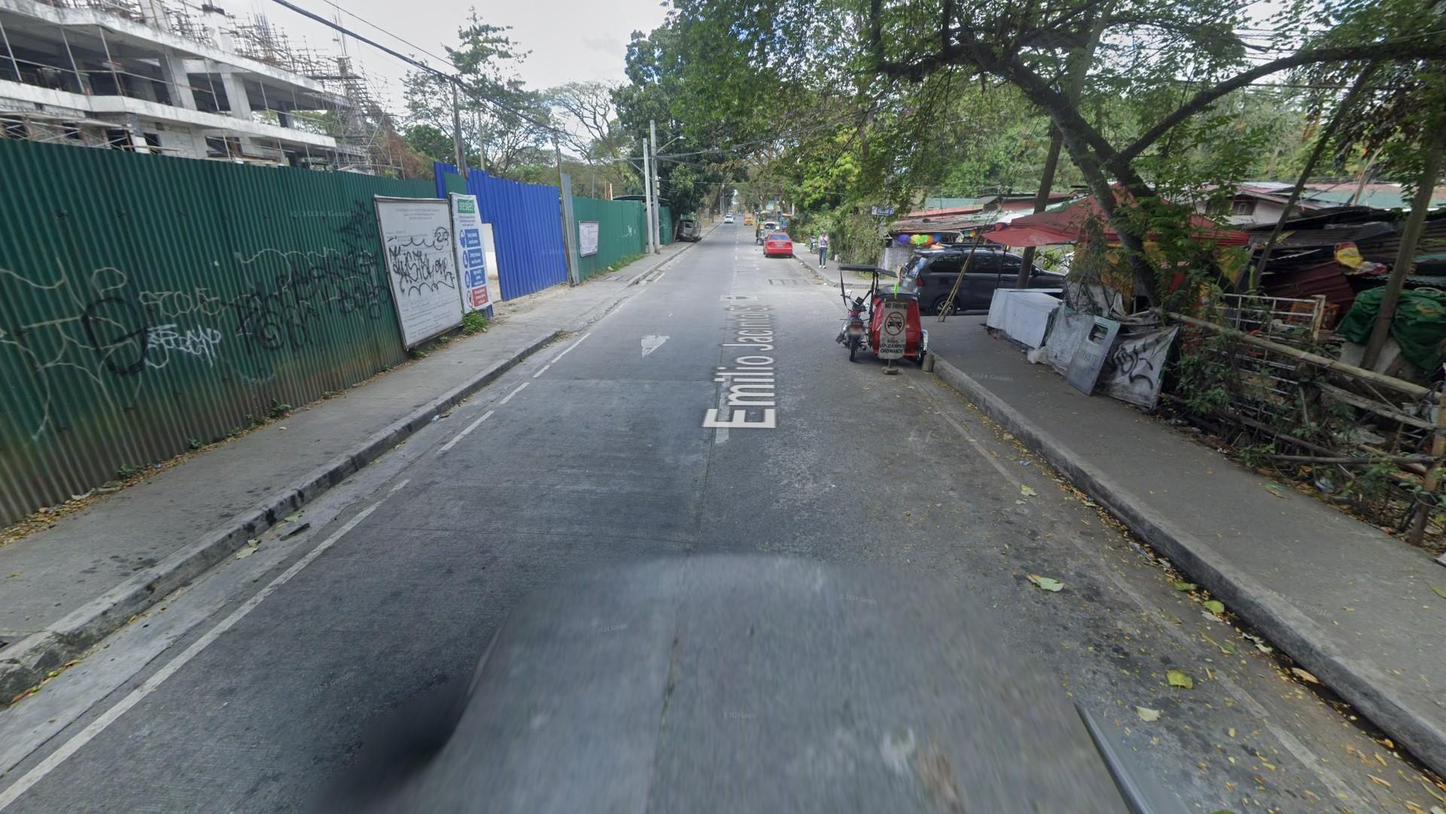pedestrian: (817, 230, 829, 270)
